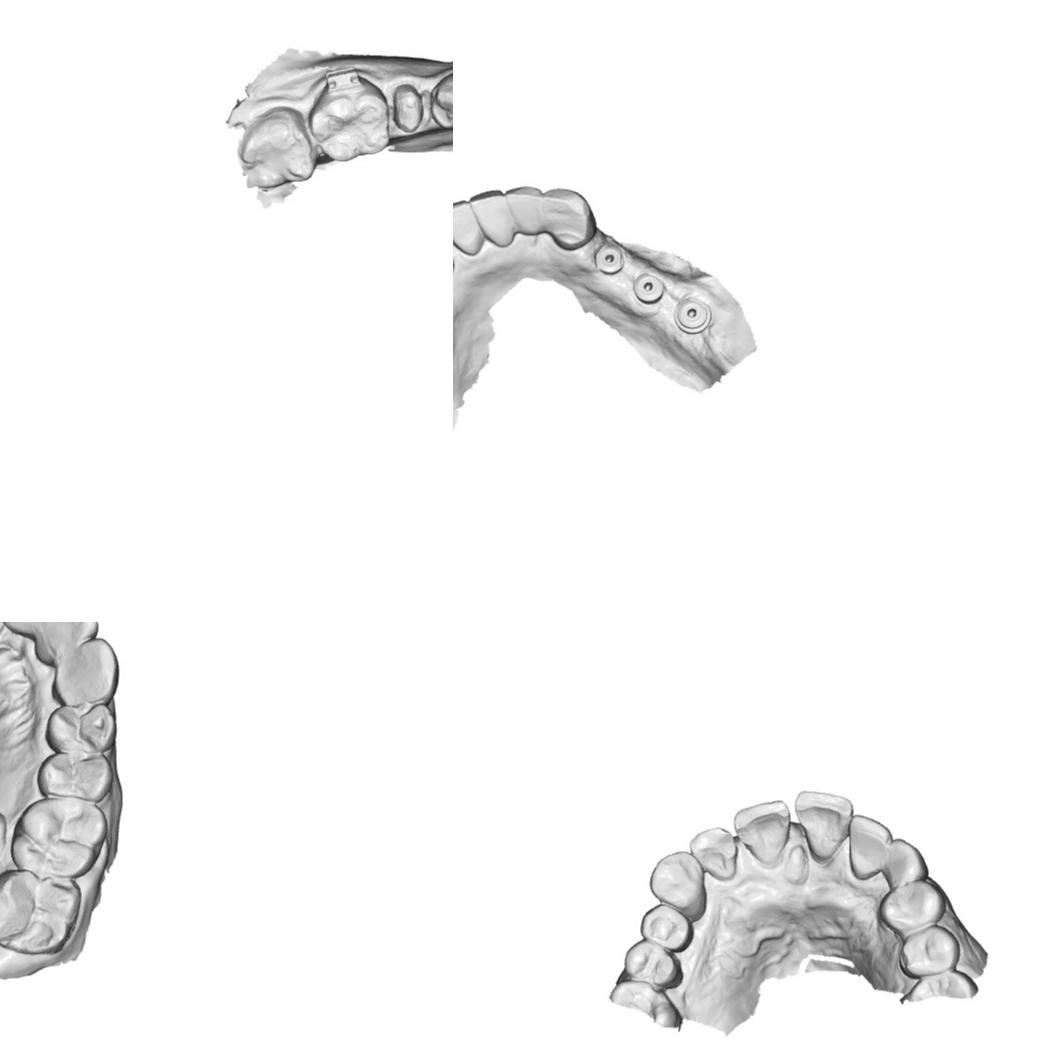canine: (53, 635, 120, 705), (647, 850, 707, 920), (541, 187, 597, 251), (883, 836, 928, 888)
crown: (387, 79, 427, 136)
implant: (672, 297, 712, 335), (632, 272, 664, 304), (593, 243, 625, 275)
incisor: (792, 790, 854, 861), (732, 798, 792, 865), (847, 813, 893, 881), (468, 188, 515, 248), (688, 826, 739, 881), (504, 185, 544, 236), (453, 198, 486, 255), (36, 622, 99, 647)
molar: (6, 794, 109, 880), (0, 871, 80, 955), (235, 107, 316, 189), (312, 81, 391, 159)
premolar: (44, 701, 119, 758), (36, 750, 112, 802), (878, 879, 946, 935), (897, 925, 962, 979), (623, 938, 684, 989), (638, 903, 695, 953), (427, 71, 453, 133)
